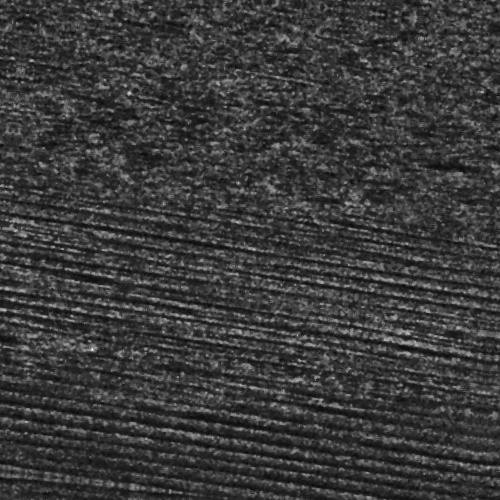object: (33, 360, 116, 369)
shadow: (0, 360, 74, 369)
